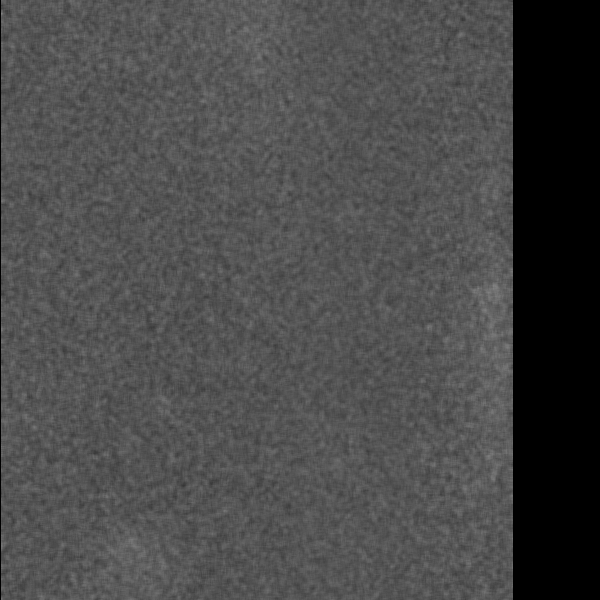spark: (187, 235, 221, 319), (362, 354, 394, 414), (26, 560, 55, 599), (469, 513, 496, 554), (416, 491, 440, 525), (356, 530, 386, 551), (352, 583, 386, 600), (354, 406, 379, 427)
